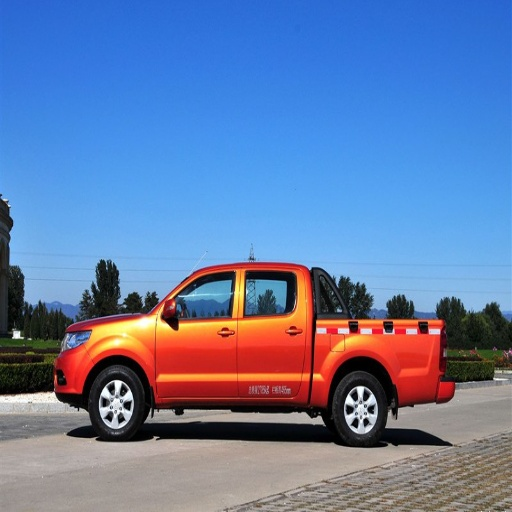back_glass: (237, 268, 308, 395)
front_glass: (156, 268, 241, 395)
tailgate: (316, 314, 442, 405)
trunk: (89, 365, 144, 439), (333, 371, 386, 444)
